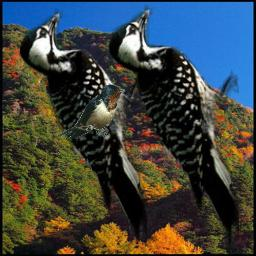Swallow: (55, 84, 125, 139)
Woodpecker: (106, 4, 239, 250), (17, 8, 147, 248)
